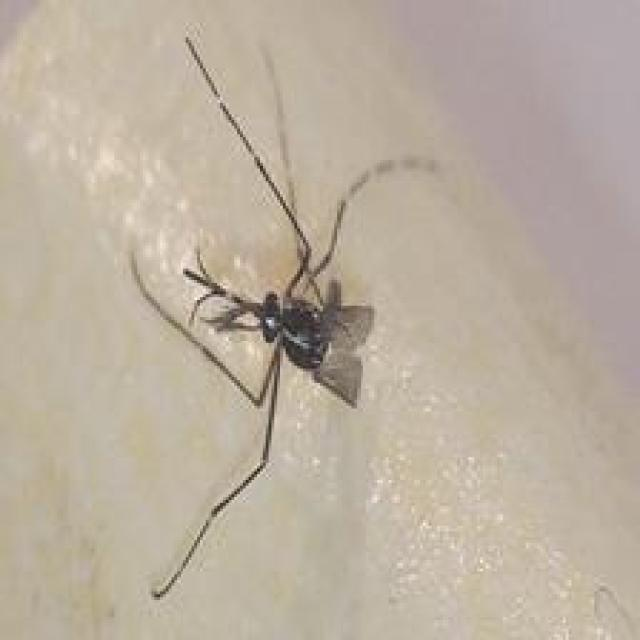Aedes albopictus: (127, 30, 456, 601)
